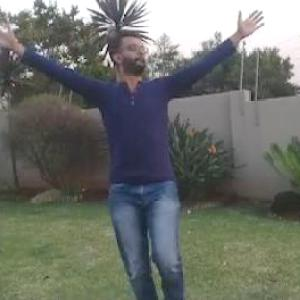takeoff: (1, 21, 257, 282)
